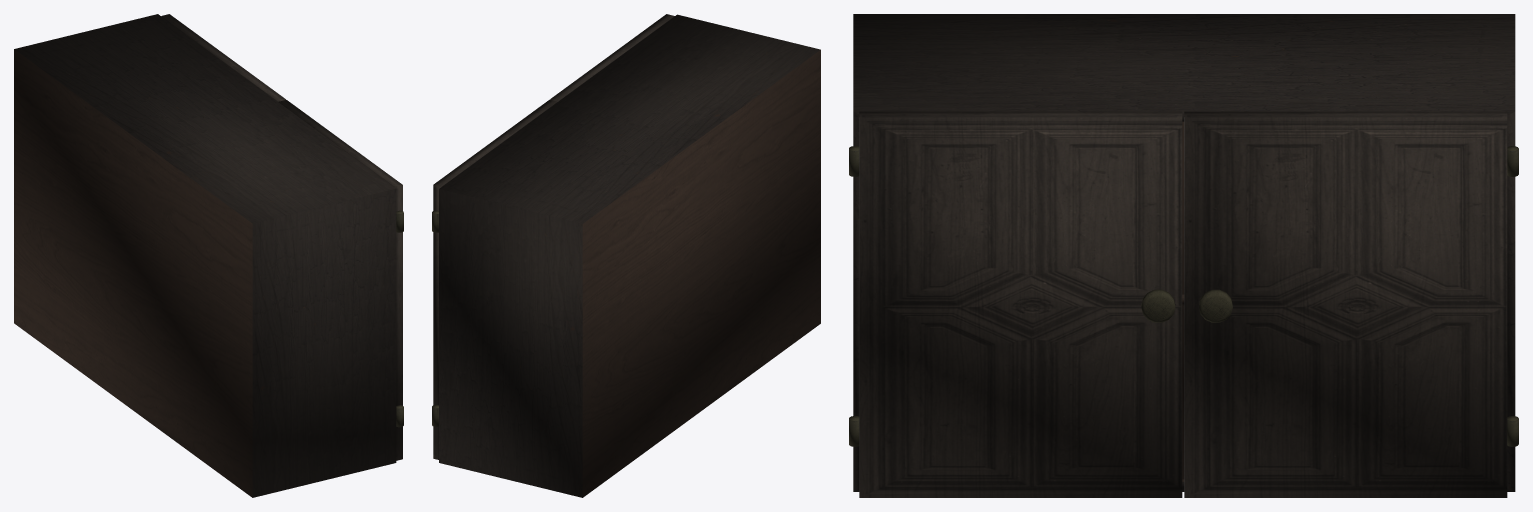
The model's file is FPH_WallCabinet.fbx.
3 renders of one model, left to right at view 1: azimuth 30°, elevation 25°; view 2: azimuth 150°, elevation 25°; view 3: azimuth 270°, elevation 25°, orthographic. The views are drawn at different scales.
Visible parts, largest first — view 1: FPH_WallCabinet, FPH_WallCabinet_002, FPH_WallCabinet_001; view 2: FPH_WallCabinet, FPH_WallCabinet_001, FPH_WallCabinet_002; view 3: FPH_WallCabinet_001, FPH_WallCabinet_002, FPH_WallCabinet.
Part boxes in pixels (<box>): FPH_WallCabinet: <box>14,14,396,497</box>; FPH_WallCabinet_002: <box>278,100,403,460</box>; FPH_WallCabinet_001: <box>161,14,285,101</box>; FPH_WallCabinet: <box>439,14,820,497</box>; FPH_WallCabinet_001: <box>432,99,557,459</box>; FPH_WallCabinet_002: <box>550,14,674,101</box>; FPH_WallCabinet_001: <box>1184,111,1518,497</box>; FPH_WallCabinet_002: <box>849,111,1182,497</box>; FPH_WallCabinet: <box>853,14,1515,491</box>.
Size of the model in its own units: 1.67 by 2.7 by 4.3.
